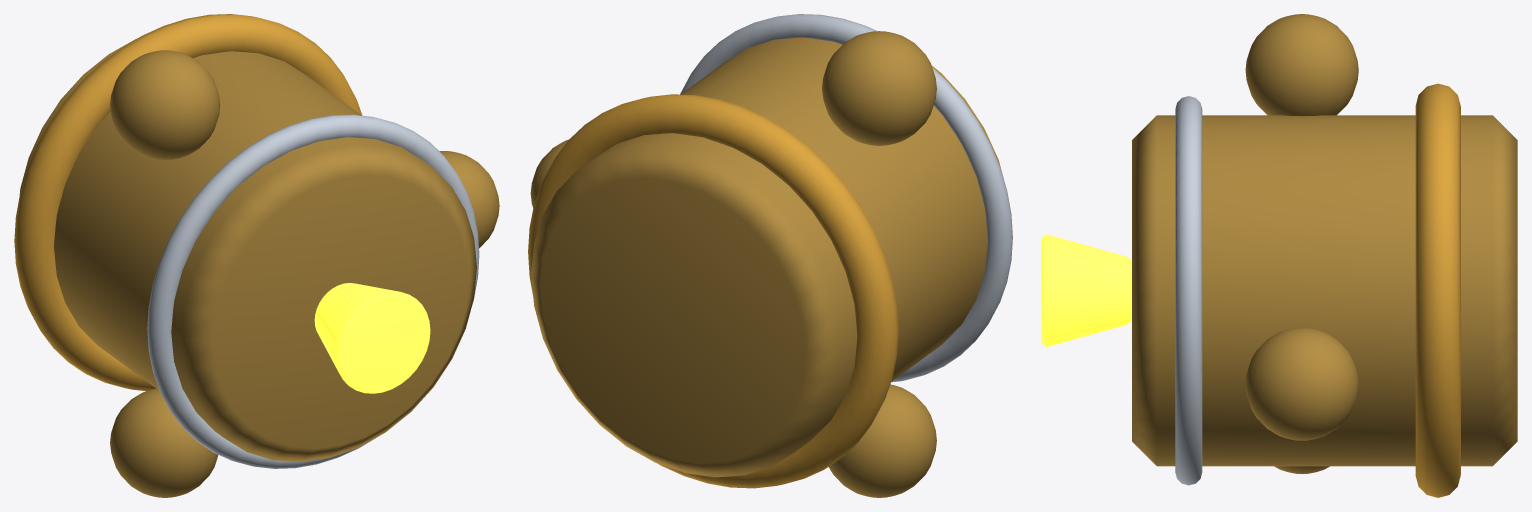
The model's file is proj_nova_shell_t3.glb.
3 renders of one model, left to right at view 1: azimuth 30°, elevation 25°; view 2: azimuth 150°, elevation 25°; view 3: azimuth 270°, elevation 25°, orthographic. The views are drawn at different scales.
Parts seen in each view (by area): view 1: proj_nova_shell_t3_body, proj_nova_shell_t3_burn_band, proj_nova_shell_t3_band, proj_nova_shell_t3_fuse, proj_nova_shell_t3_bomblet1, proj_nova_shell_t3_bomblet2, proj_nova_shell_t3_bomblet0; view 2: proj_nova_shell_t3_body, proj_nova_shell_t3_burn_band, proj_nova_shell_t3_band, proj_nova_shell_t3_bomblet1, proj_nova_shell_t3_bomblet2, proj_nova_shell_t3_bomblet0; view 3: proj_nova_shell_t3_body, proj_nova_shell_t3_burn_band, proj_nova_shell_t3_band, proj_nova_shell_t3_bomblet0, proj_nova_shell_t3_bomblet1, proj_nova_shell_t3_fuse.
Boxes of the visible parts, left/top/right/bottom form: proj_nova_shell_t3_body: left=19, top=38, right=476, bottom=461; proj_nova_shell_t3_burn_band: left=14, top=14, right=362, bottom=391; proj_nova_shell_t3_band: left=147, top=114, right=479, bottom=468; proj_nova_shell_t3_fuse: left=314, top=283, right=430, bottom=393; proj_nova_shell_t3_bomblet1: left=110, top=50, right=220, bottom=160; proj_nova_shell_t3_bomblet2: left=110, top=388, right=218, bottom=497; proj_nova_shell_t3_bomblet0: left=439, top=151, right=499, bottom=248; proj_nova_shell_t3_body: left=531, top=37, right=1003, bottom=477; proj_nova_shell_t3_burn_band: left=528, top=94, right=898, bottom=488; proj_nova_shell_t3_band: left=680, top=14, right=1012, bottom=382; proj_nova_shell_t3_bomblet1: left=822, top=31, right=936, bottom=145; proj_nova_shell_t3_bomblet2: left=829, top=384, right=936, bottom=497; proj_nova_shell_t3_bomblet0: left=530, top=139, right=568, bottom=207; proj_nova_shell_t3_body: left=1132, top=115, right=1517, bottom=466; proj_nova_shell_t3_burn_band: left=1415, top=83, right=1460, bottom=497; proj_nova_shell_t3_band: left=1175, top=96, right=1202, bottom=485; proj_nova_shell_t3_bomblet0: left=1245, top=327, right=1358, bottom=440; proj_nova_shell_t3_bomblet1: left=1245, top=14, right=1358, bottom=116; proj_nova_shell_t3_fuse: left=1041, top=234, right=1131, bottom=347.
Size of what is drawn, in the model's own units: 0.428 by 0.4377 by 0.42.
